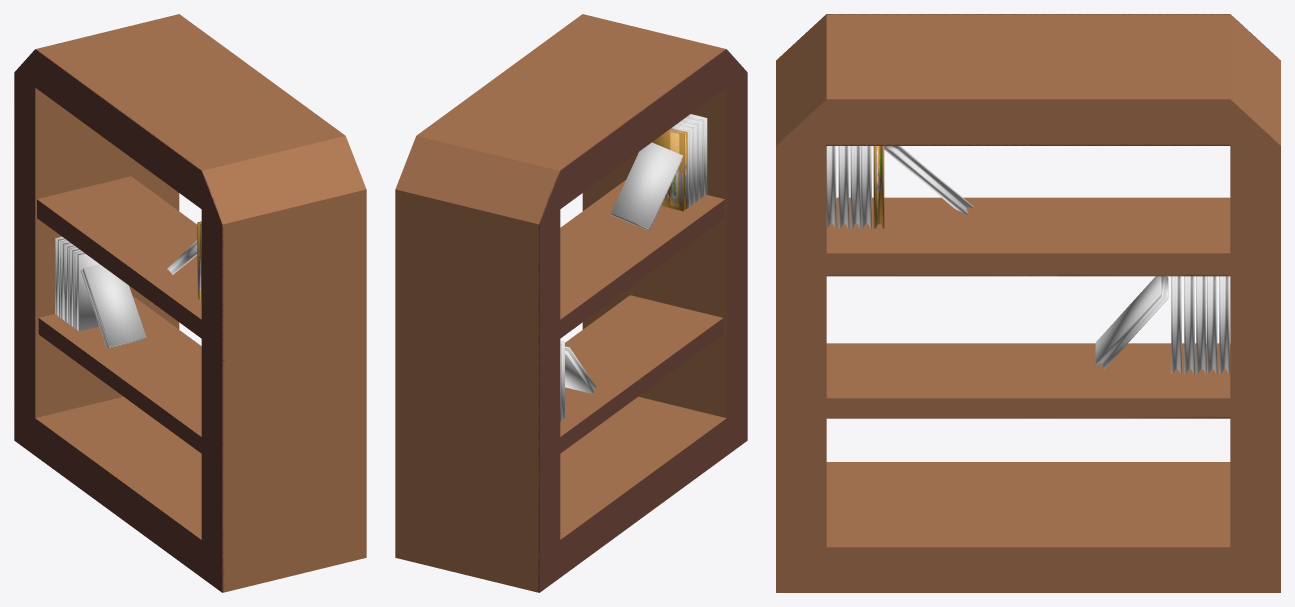
The model's file is Estanteria.fbx.
3 views of the same model, side by side, from view 1: azimuth 30°, elevation 25°; view 2: azimuth 150°, elevation 25°; view 3: azimuth 270°, elevation 25° (orthographic). The views are drawn at different scales.
Visible parts, largest first — view 1: Estanteria, Libro1.005, Libro1.004, Libro1.003, Libro1.002; view 2: Estanteria, Libro1.006, Libro1.011, Libro1.005, Libro1.010, Libro1.007, Libro1.008, Libro1.009; view 3: Estanteria, Libro1.005, Libro1.006, Libro1, Libro1.001, Libro1.002, Libro1.003, Libro1.004, Libro1.008, Libro1.009, Libro1.011, Libro1.007 (+1 smaller).
Boxes of the visible parts, left/top/right/bottom form: Estanteria: left=14, top=14, right=366, bottom=592; Libro1.005: left=80, top=264, right=146, bottom=348; Libro1.004: left=74, top=251, right=99, bottom=331; Libro1.003: left=69, top=247, right=80, bottom=327; Libro1.002: left=64, top=243, right=75, bottom=323; Estanteria: left=395, top=14, right=747, bottom=592; Libro1.006: left=611, top=142, right=682, bottom=230; Libro1.011: left=652, top=128, right=687, bottom=211; Libro1.005: left=565, top=346, right=596, bottom=393; Libro1.010: left=671, top=124, right=692, bottom=207; Libro1.007: left=686, top=114, right=707, bottom=196; Libro1.008: left=681, top=117, right=702, bottom=200; Libro1.009: left=676, top=121, right=697, bottom=203; Estanteria: left=776, top=14, right=1280, bottom=592; Libro1.005: left=1095, top=276, right=1168, bottom=369; Libro1.006: left=884, top=146, right=973, bottom=214; Libro1: left=1219, top=276, right=1229, bottom=373; Libro1.001: left=1207, top=276, right=1217, bottom=373; Libro1.002: left=1196, top=276, right=1206, bottom=373; Libro1.003: left=1184, top=276, right=1194, bottom=373; Libro1.004: left=1171, top=276, right=1181, bottom=373; Libro1.008: left=838, top=146, right=849, bottom=228; Libro1.009: left=850, top=146, right=861, bottom=228; Libro1.011: left=873, top=146, right=884, bottom=228; Libro1.007: left=826, top=146, right=836, bottom=228.
Size of the model in its own units: 200 by 539 by 500.
